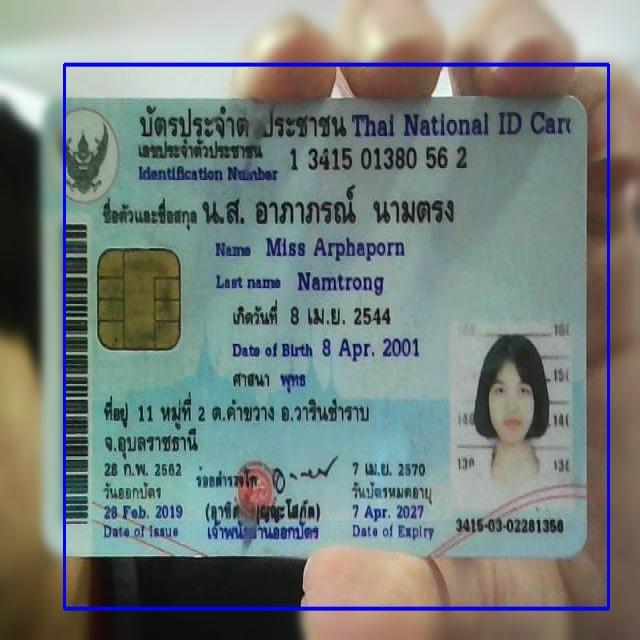Address_th: (96, 392, 398, 460)
Date_of_Birth: (318, 329, 424, 368)
Date_of_Expiry: (346, 498, 429, 522)
Date_of_Issue: (102, 499, 186, 524)
First_Name: (260, 230, 407, 264)
ID_Number: (288, 141, 474, 176)
Image: (456, 323, 574, 520)
Last_Name: (292, 267, 390, 300)
Thai_Name: (201, 181, 456, 232)
